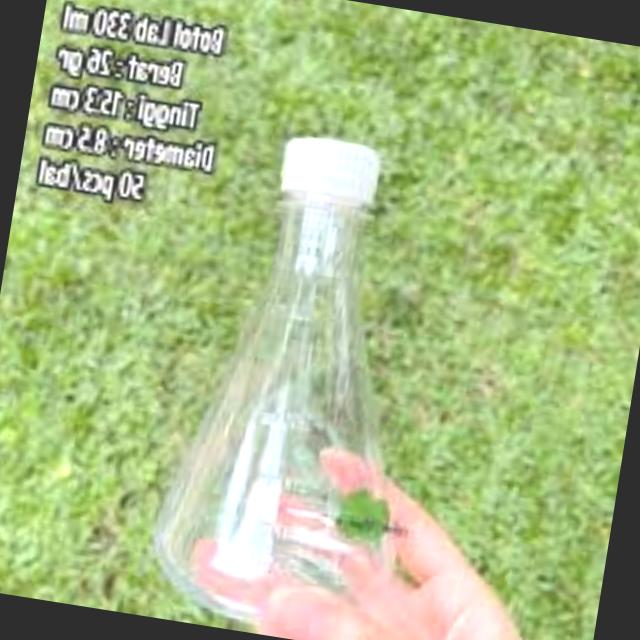trash: (136, 114, 464, 640)
